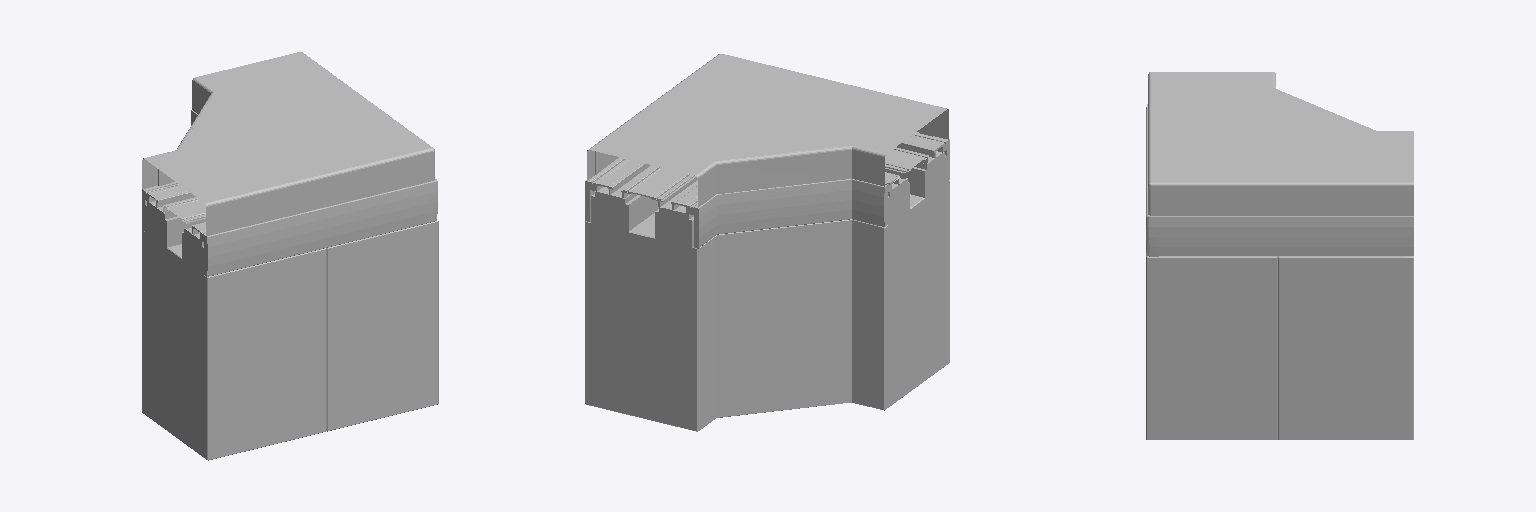
File: Automation Track L-Module.obj
The picture shows the model from 3 angles: view 1: azimuth 30°, elevation 25°; view 2: azimuth 150°, elevation 25°; view 3: azimuth 270°, elevation 25°; orthographic projection.
Visible parts, largest first — view 1: object3, object6, object1, object7; view 2: object3, object6, object5, object1, object7, object4; view 3: object3, object6, object7.
Part boxes in pixels (x1,y1,x2,y2): object3: (142, 110, 438, 460); object6: (142, 52, 434, 235); object1: (145, 201, 203, 274); object7: (159, 58, 316, 202); object3: (585, 132, 949, 431); object6: (587, 54, 948, 207); object5: (591, 192, 693, 247); object1: (888, 152, 946, 224); object7: (596, 102, 929, 201); object4: (595, 144, 934, 212); object3: (1146, 104, 1413, 439); object6: (1148, 72, 1413, 215); object7: (1148, 79, 1396, 215).
Bounding box in the file's own units: 40.24 × 42.31 × 40.19.